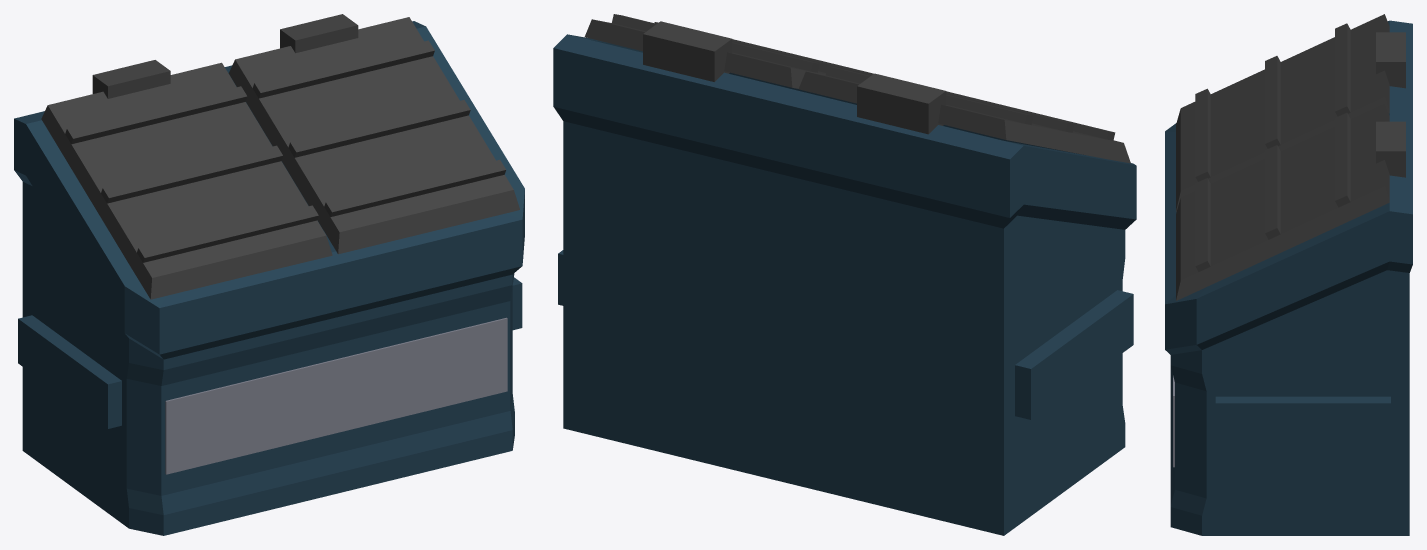
File: General.glb
3 renders of one model, left to right at view 1: azimuth 30°, elevation 25°; view 2: azimuth 150°, elevation 25°; view 3: azimuth 270°, elevation 25°, orthographic. The views are drawn at different scales.
Parts seen in each view (by area): view 1: TrashContainer.001; view 2: TrashContainer.001; view 3: TrashContainer.001.
Boxes of the visible parts, x1,y1,x2,y2 form: TrashContainer.001: [14, 14, 524, 535]; TrashContainer.001: [553, 14, 1136, 535]; TrashContainer.001: [1165, 14, 1412, 535].
Bounding box in the file's own units: 2.44 × 2.03 × 1.3.
